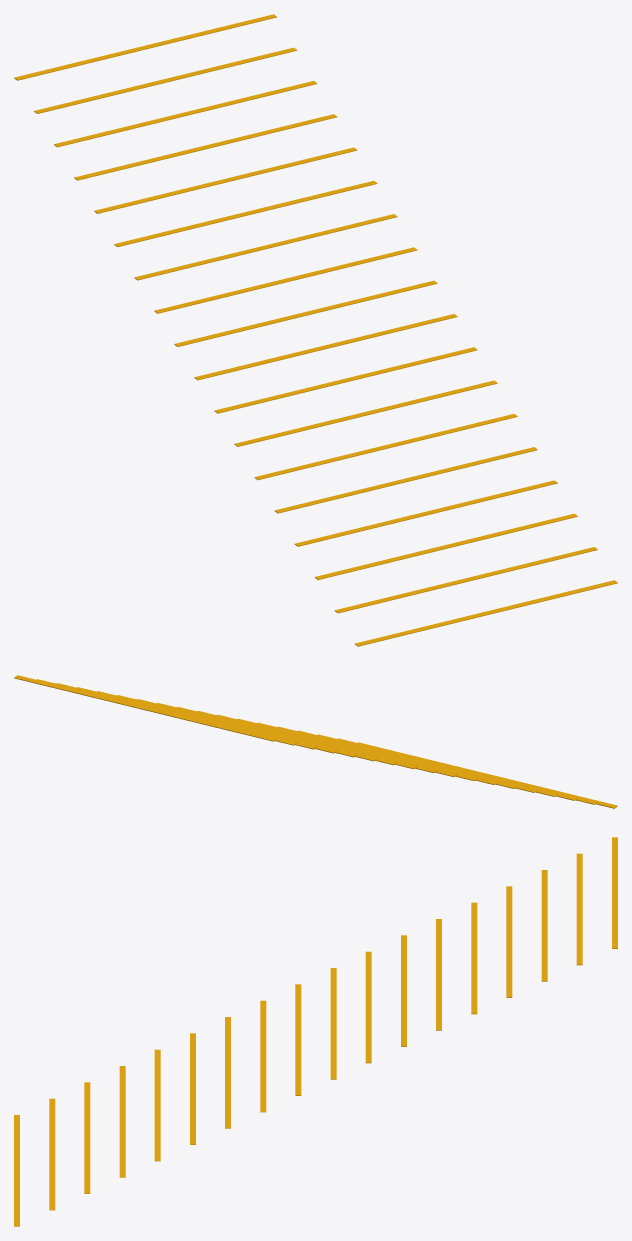
File: gteki_ik_stair_n18_r164_t320_w2411_nosing.glb
3 renders of one model, top to bottom at view 1: azimuth 30°, elevation 25°; view 2: azimuth 150°, elevation 25°; view 3: azimuth 270°, elevation 25°, orthographic. The views are drawn at different scales.
Visible parts, largest first — view 1: VIS_body; view 2: VIS_body; view 3: VIS_body.
Boxes of the visible parts, left/top/right/bottom form: VIS_body: left=14, top=14, right=617, bottom=646; VIS_body: left=14, top=675, right=617, bottom=808; VIS_body: left=14, top=837, right=617, bottom=1226.
Size of the model in its own units: 2.39 by 2.79 by 5.5.
Materials: 1 (1 with a texture image).
